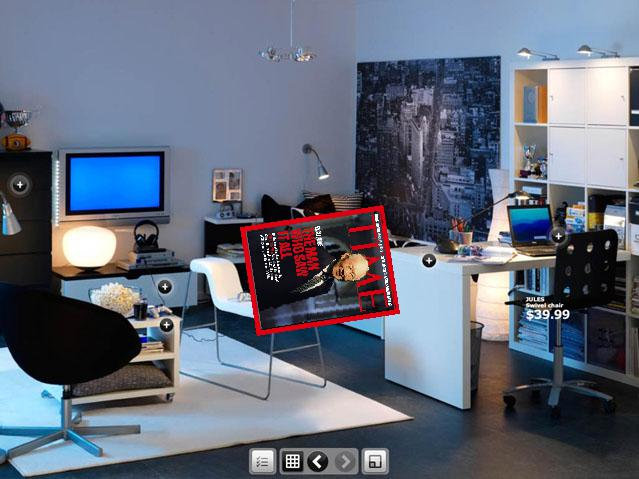times: (237, 203, 403, 339)
